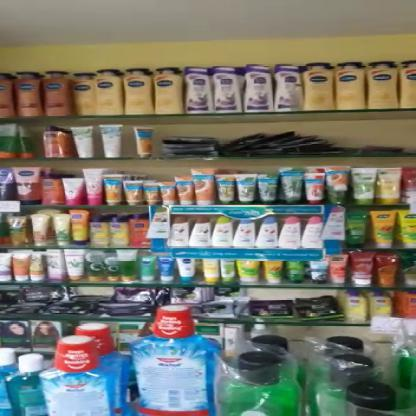Everyuth Naturals Body Lotion Nourishing Cocoa 200ml: (192, 215, 216, 246), (169, 216, 189, 247)
Everyuth Naturals Body Lotion Rejuvenating Flora 200ml: (279, 216, 302, 247), (303, 216, 325, 245)
Everyuth Naturals Body Lotion Soothing Citrus 200ml: (213, 216, 236, 247)
Everyuth Naturals Body Lotion Sun Care Berries SPF 15 200ml: (256, 216, 280, 249), (235, 218, 258, 246)
